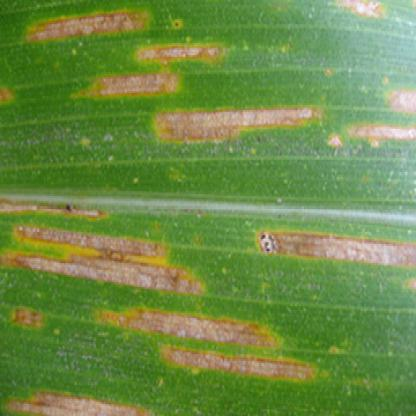Corn Gray leaf spot: (1, 3, 415, 414)
